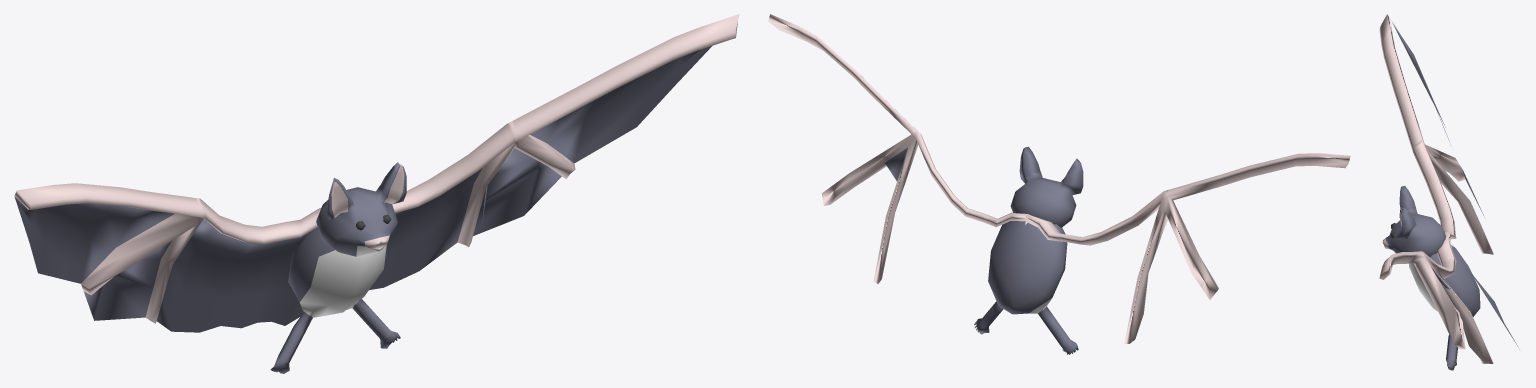
The model's file is 8effe082-c691-4dd9-bdf0-b4fd74676992.glb.
3 views of the same model, side by side, from view 1: azimuth 30°, elevation 25°; view 2: azimuth 150°, elevation 25°; view 3: azimuth 270°, elevation 25° (orthographic). The views are drawn at different scales.
Parts seen in each view (by area): view 1: Symmetry; view 2: Symmetry; view 3: Symmetry.
Boxes of the visible parts, bbox=[...] form: Symmetry: bbox=[14, 14, 739, 373]; Symmetry: bbox=[768, 14, 1350, 354]; Symmetry: bbox=[1379, 14, 1519, 370].
Size of the model in its own units: 512 by 198 by 121.
